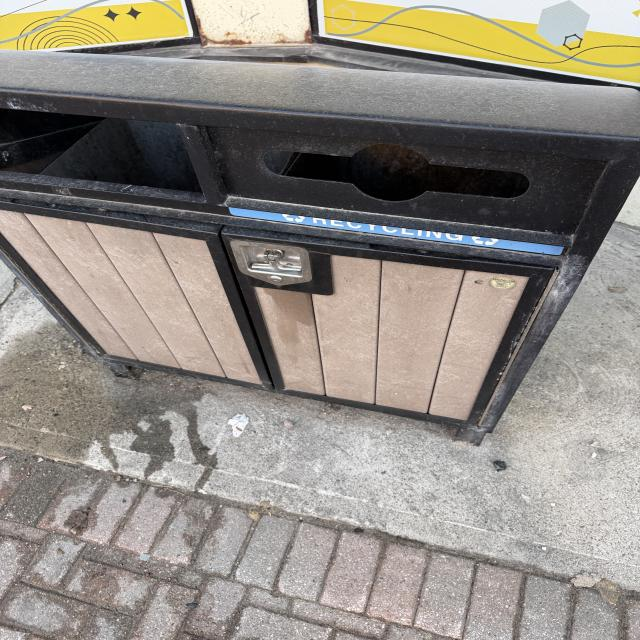Dustbin: (0, 50, 639, 442)
